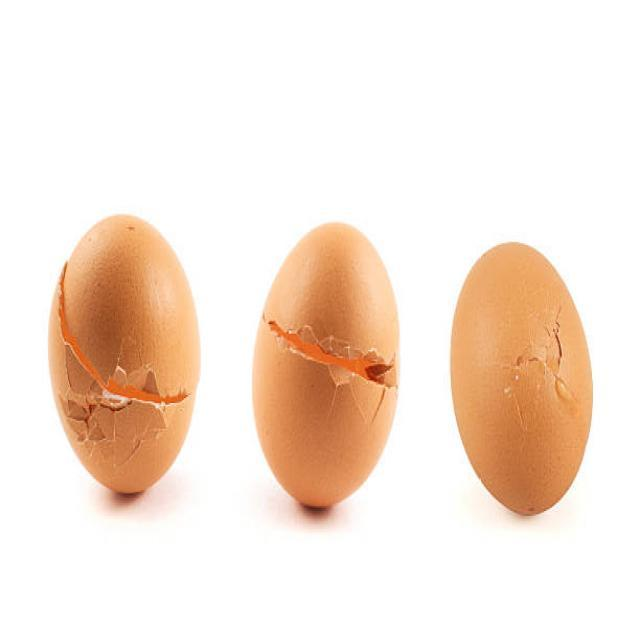biodegradable: (46, 203, 206, 499), (248, 215, 403, 516), (445, 234, 596, 518)
